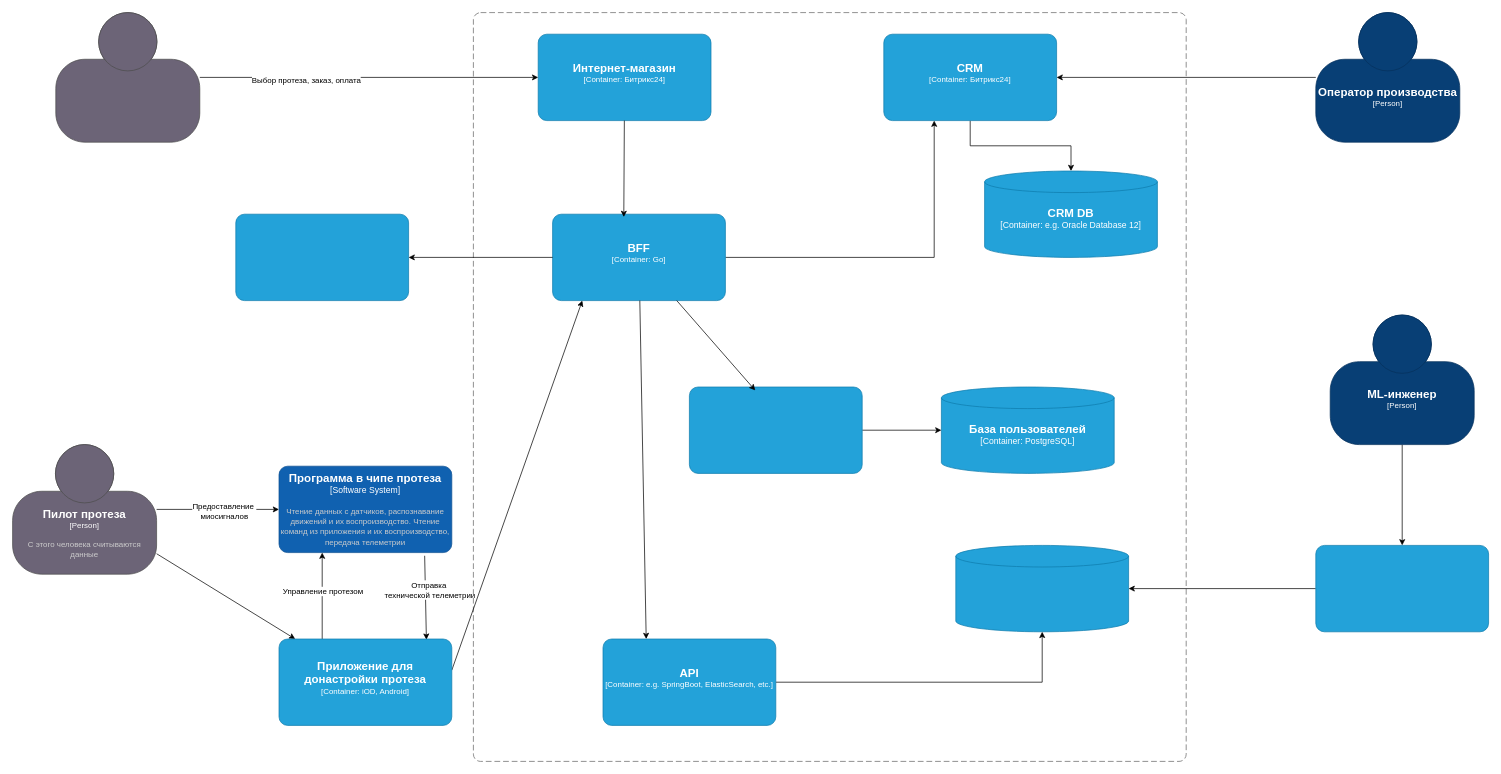
Image size: 1501x774. Some labels were removed from this diagram. The shapes that lost their labels are listed below. From the top down, each one's box as (x1, y1, x2, y2) in pixels, then its label:
(55, 12, 200, 142): Покупатель протеза [Person]
(235, 213, 409, 301): Внешний IdP [Container: ]
(473, 12, 1186, 761): BionicPRO [Software System]
(689, 386, 862, 473): Сервис авторизации [Container: e.g. SpringBoot, ElasticSearch, etc.]
(955, 545, 1129, 632): База данных [Container: PostgreSQL]
(1315, 545, 1489, 632): cli tool [Container: e.g. SpringBoot, ElasticSearch, etc.]
